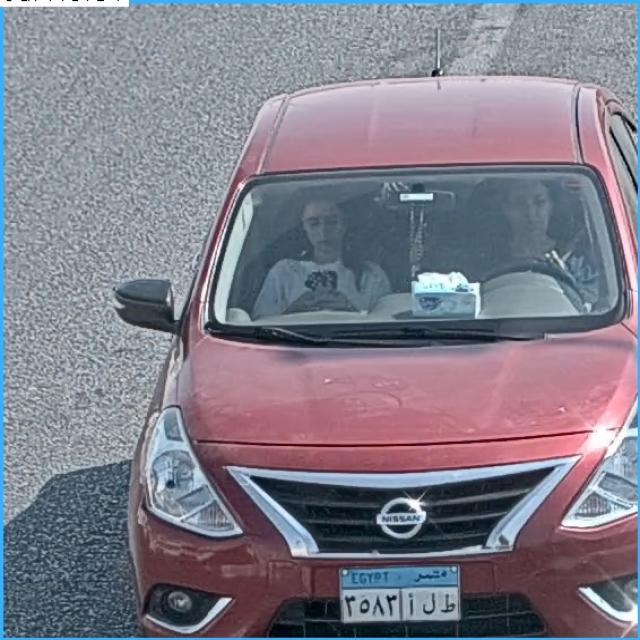windshield: (212, 167, 620, 331)
